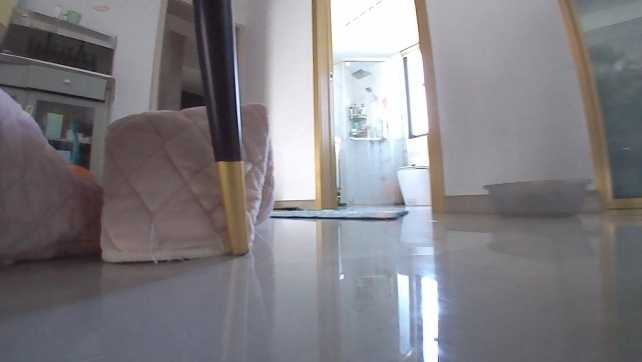blanket: (268, 207, 409, 222)
toilet: (396, 162, 428, 206)
